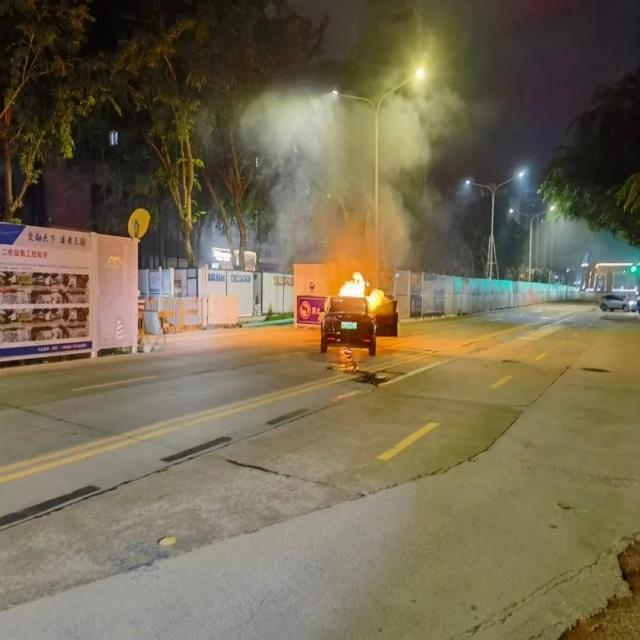Fire: (339, 264, 384, 312)
Smoke: (250, 82, 432, 258)
